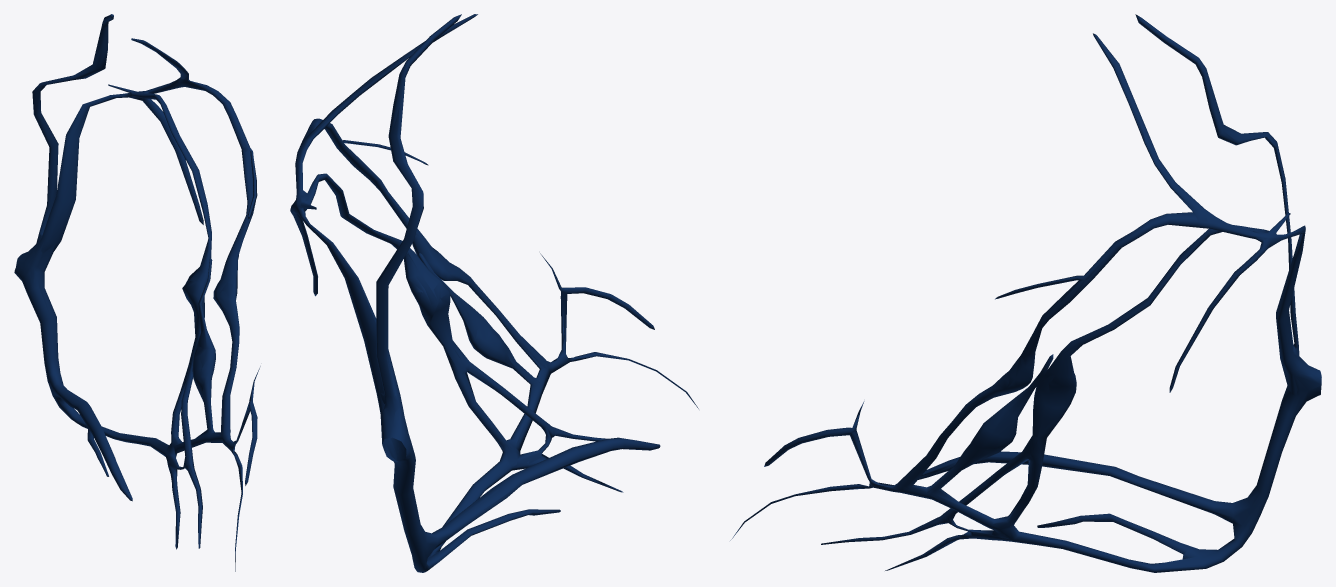
The model's file is L vena linguofacialis.fbx.
3 views of the same model, side by side, from view 1: azimuth 30°, elevation 25°; view 2: azimuth 150°, elevation 25°; view 3: azimuth 270°, elevation 25° (orthographic). The views are drawn at different scales.
Visible parts, largest first — view 1: L vena linguofacialis, L vena linguofacialis low; view 2: L vena linguofacialis, L vena linguofacialis low; view 3: L vena linguofacialis, L vena linguofacialis low.
Boxes of the visible parts, x1=… form: L vena linguofacialis: x1=14, y1=14, x2=260, y2=571; L vena linguofacialis low: x1=15, y1=18, x2=256, y2=530; L vena linguofacialis: x1=290, y1=14, x2=698, y2=572; L vena linguofacialis low: x1=291, y1=17, x2=659, y2=569; L vena linguofacialis: x1=730, y1=14, x2=1321, y2=572; L vena linguofacialis low: x1=772, y1=39, x2=1321, y2=572.
Size of the model in its own units: 8.25 by 18.5 by 17.2.
